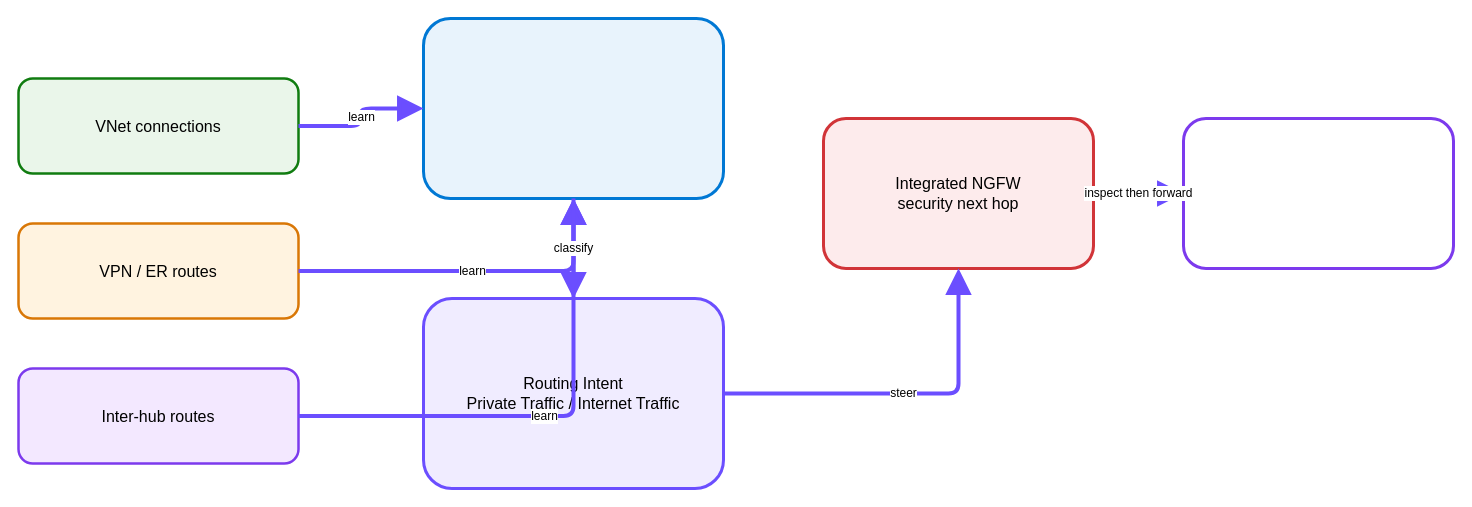
Image size: 1472x507. Some labels were removed from this diagram. Each missing label, with the centre of its shape:
"Final route lookup destination connection" goes at (1318,193).
"vHub route tables association + propagation" goes at (573,108).
